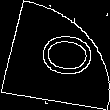O_W: (20, 28, 90, 82)
